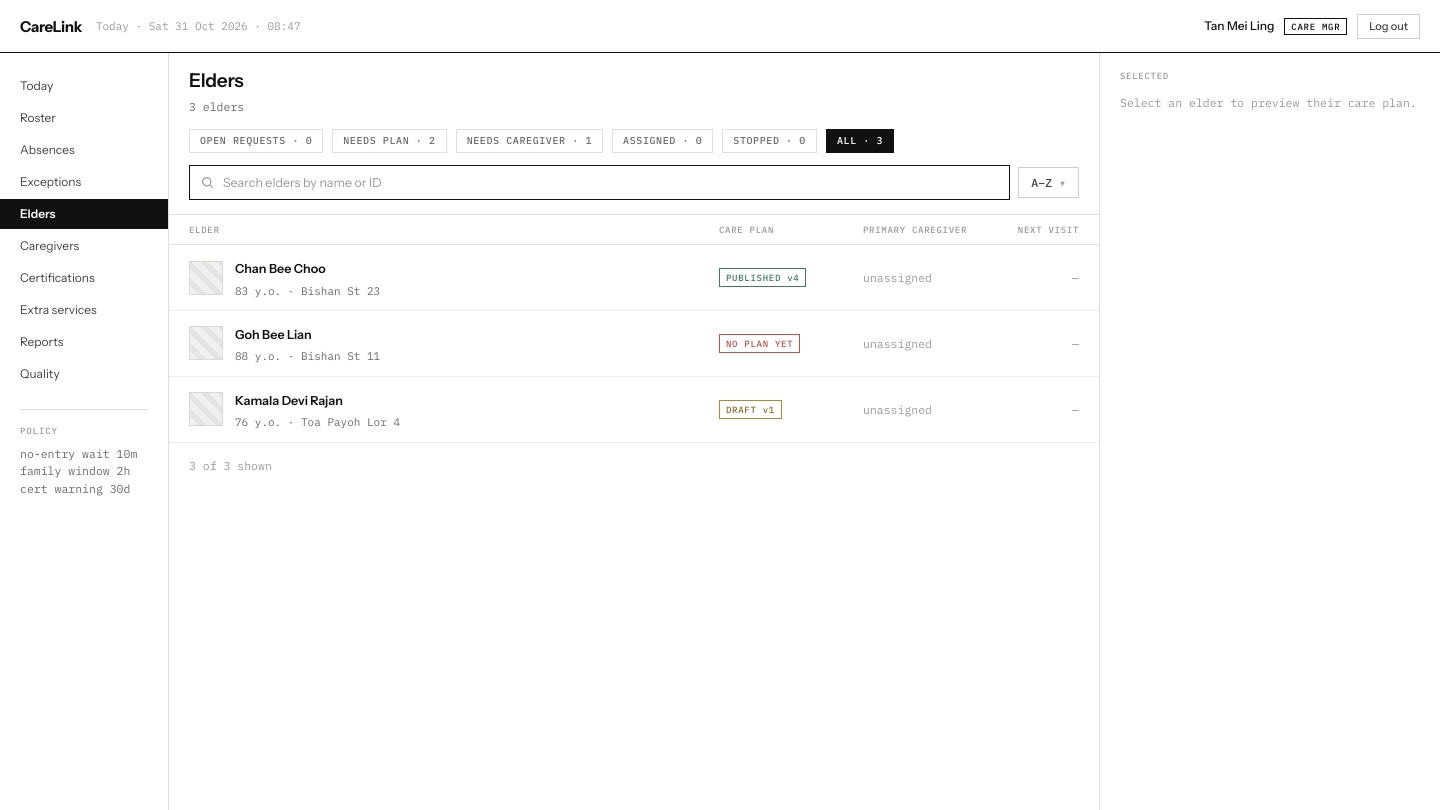
Test: rules out, before any click, a caregiver whose certificates or timetable don’t fit this elder
Click the option "Chan Bee Choo" at (206, 278), box x1=169 y1=245 x2=1099 y2=311
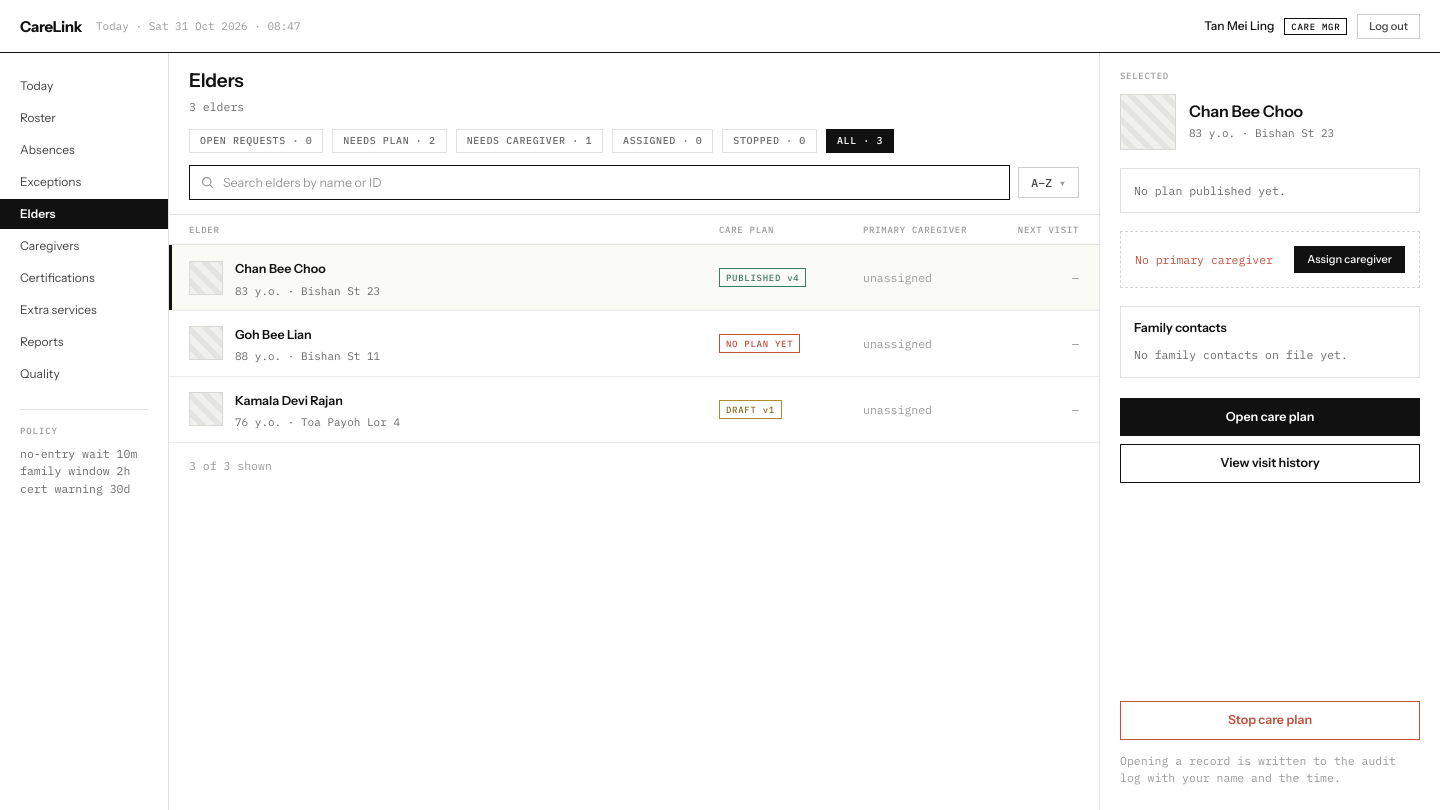
Click the button "Assign caregiver" at (1350, 260), box x1=1294 y1=246 x2=1405 y2=273
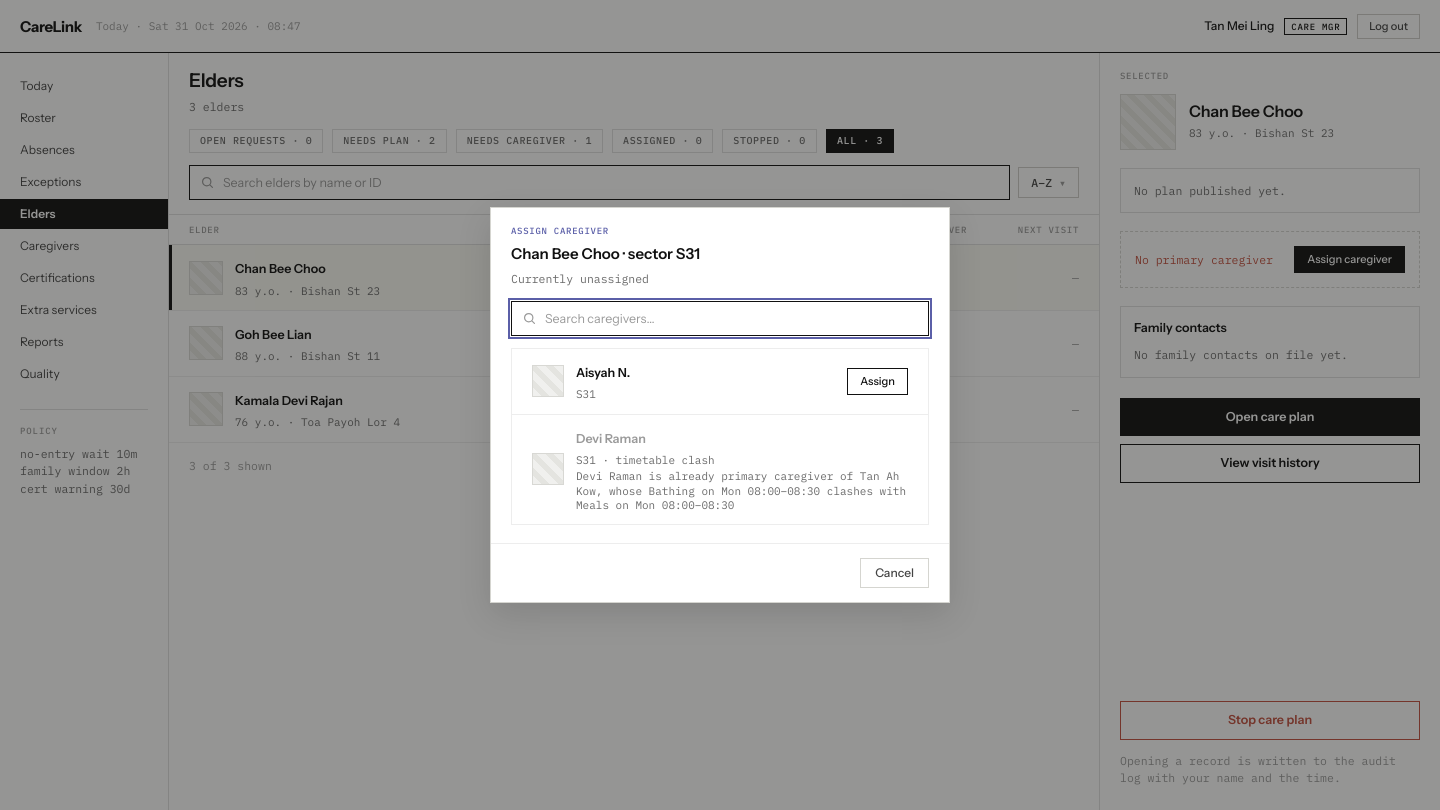
Check: the text "timetable clash" is shown, box x1=576 y1=453 x2=715 y2=467
Check: the text "already primary caregiver of Tan Ah Kow" is shown, box x1=576 y1=469 x2=906 y2=512
Check: the button "Assign" is shown, box x1=847 y1=368 x2=908 y2=395
